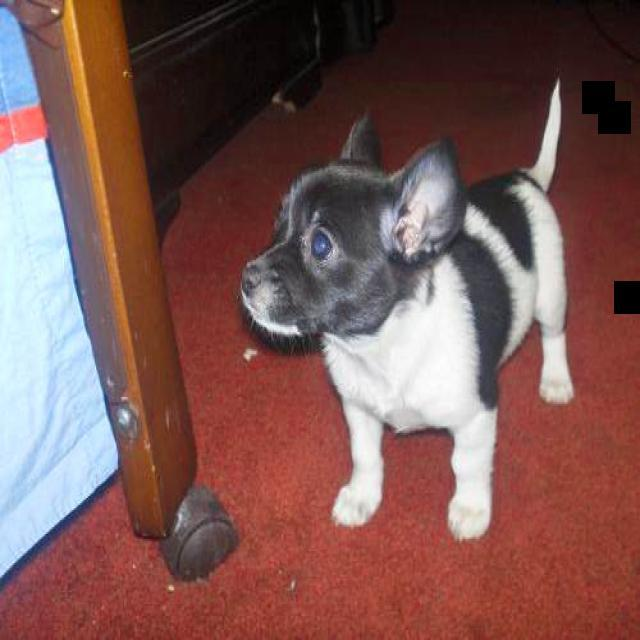puppy-dog: (237, 81, 574, 543)
